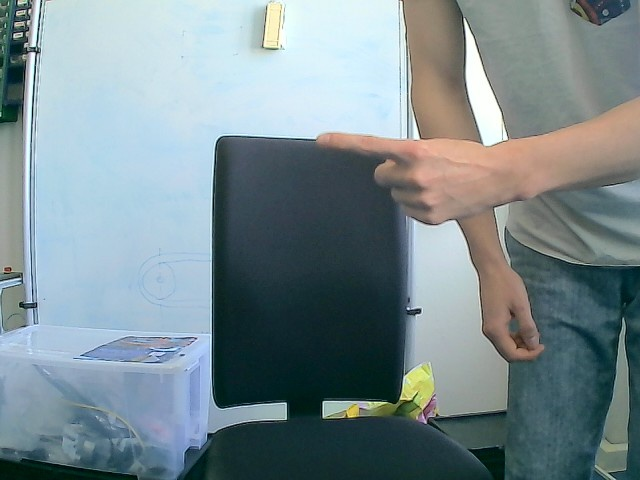no_gesture: (475, 261, 546, 366)
right: (314, 130, 512, 227)
